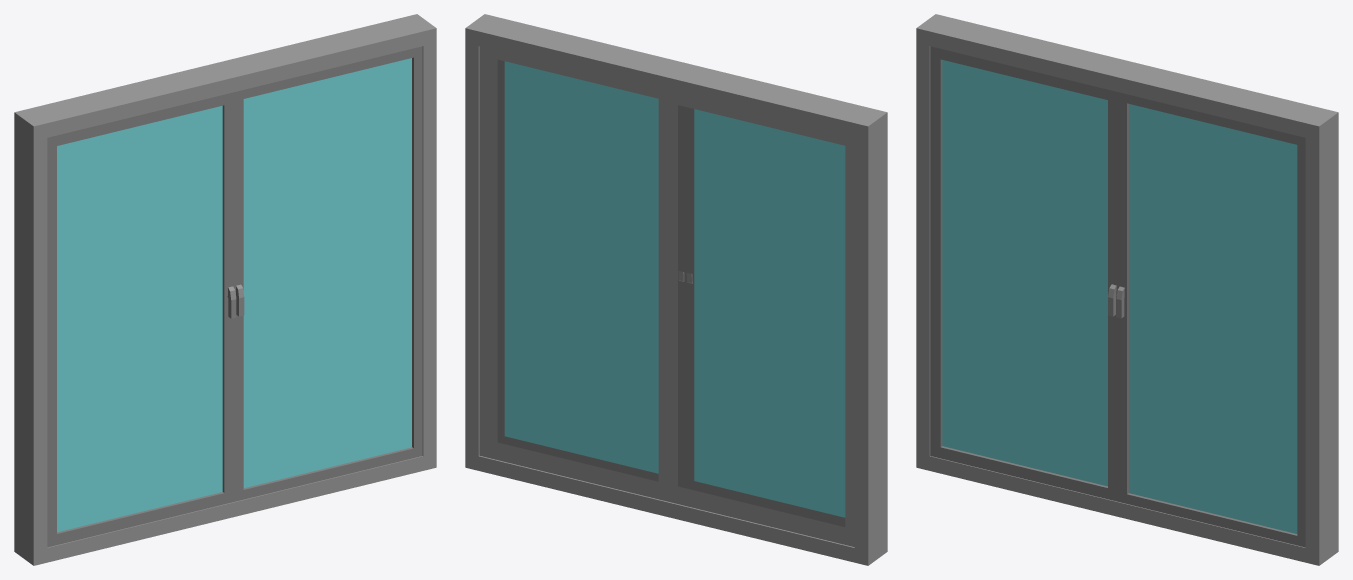
File: balconyWindow.fbx
3 renders of one model, left to right at view 1: azimuth 30°, elevation 25°; view 2: azimuth 150°, elevation 25°; view 3: azimuth 330°, elevation 25°, orthographic.
Visible parts, largest first — view 1: Balcony; view 2: Balcony; view 3: Balcony.
Boxes of the visible parts, left/top/right/bottom form: Balcony: left=14, top=14, right=436, bottom=565; Balcony: left=465, top=14, right=887, bottom=565; Balcony: left=916, top=14, right=1338, bottom=565.
Size of the model in its own units: 657 by 685 by 62.92.
